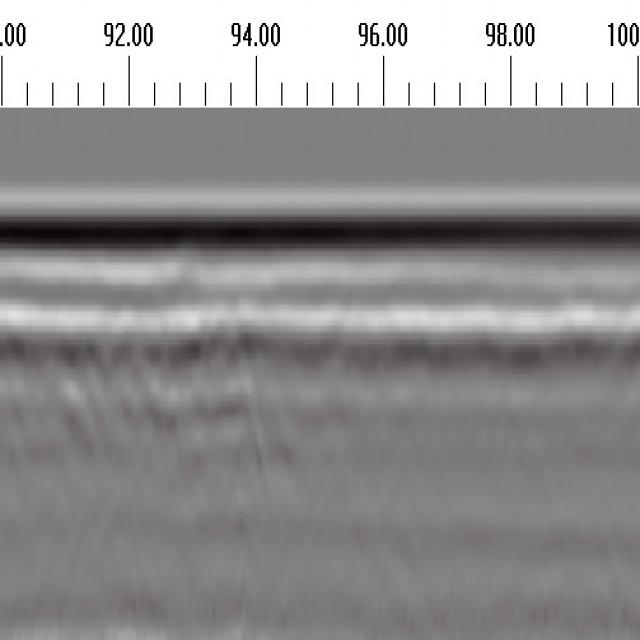loose: (41, 318, 261, 435)
